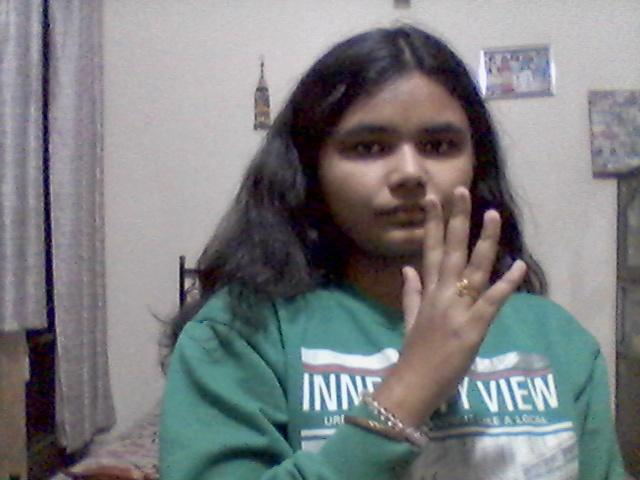fine: (358, 181, 530, 431)
